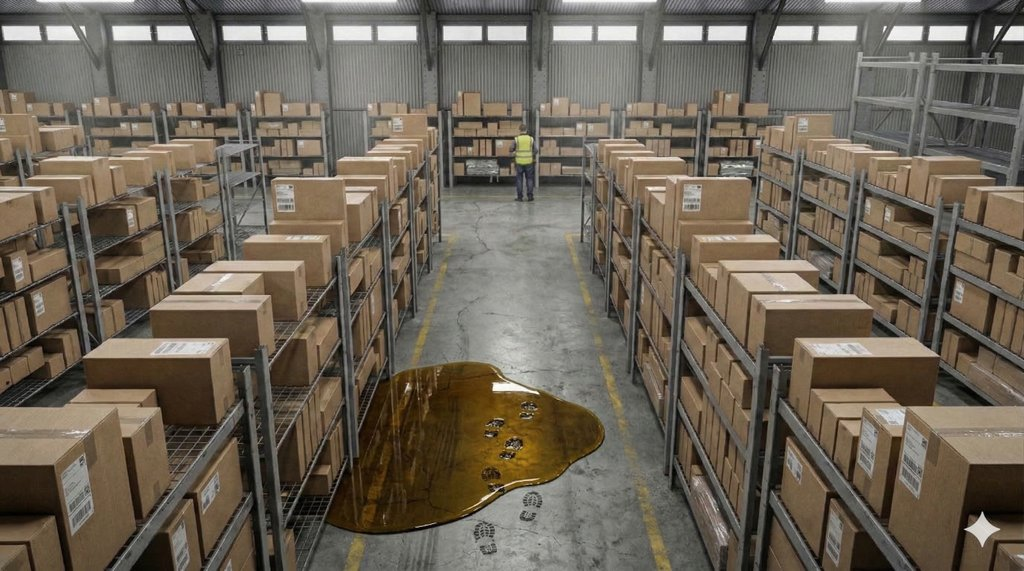empty_shelf: (849, 21, 1024, 148), (213, 121, 275, 217), (278, 455, 326, 541), (257, 360, 308, 436), (154, 393, 212, 458)
person: (506, 118, 557, 216)
safety_vest: (512, 132, 537, 171)
spill: (355, 352, 603, 558)
